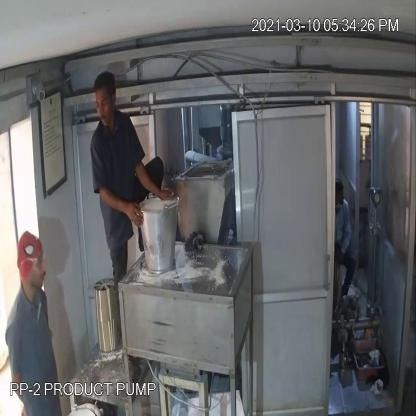no_glove: (129, 152, 173, 212), (98, 172, 144, 228)
